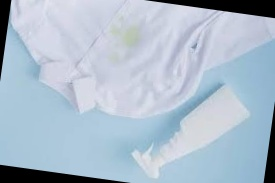oil: (105, 16, 146, 49)
